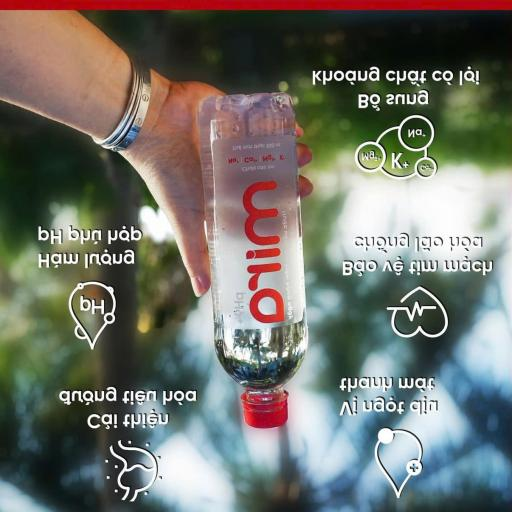bottle: (198, 93, 307, 428)
